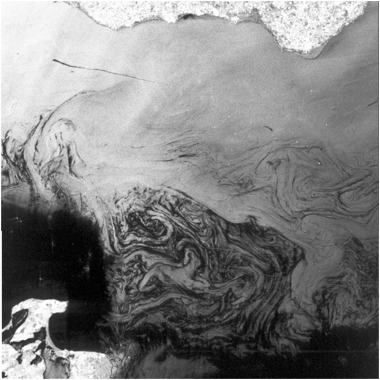anomaly: (5, 188, 369, 370)
